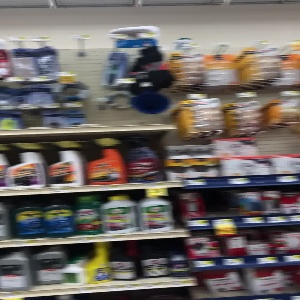void: (206, 192, 237, 218)
